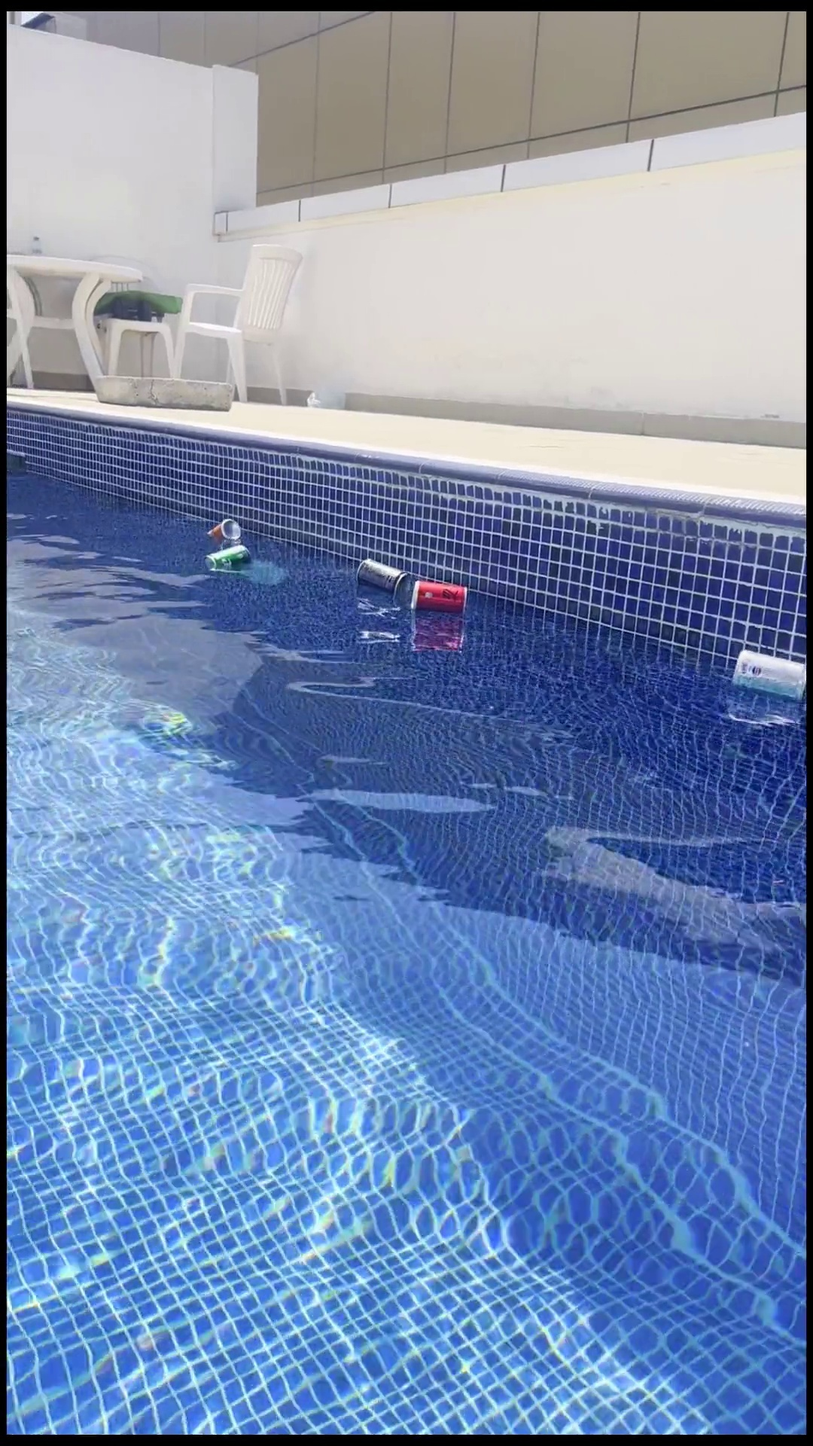debris: (723, 625, 802, 720), (355, 538, 407, 620), (408, 567, 470, 634), (205, 534, 250, 593), (202, 505, 239, 550)
